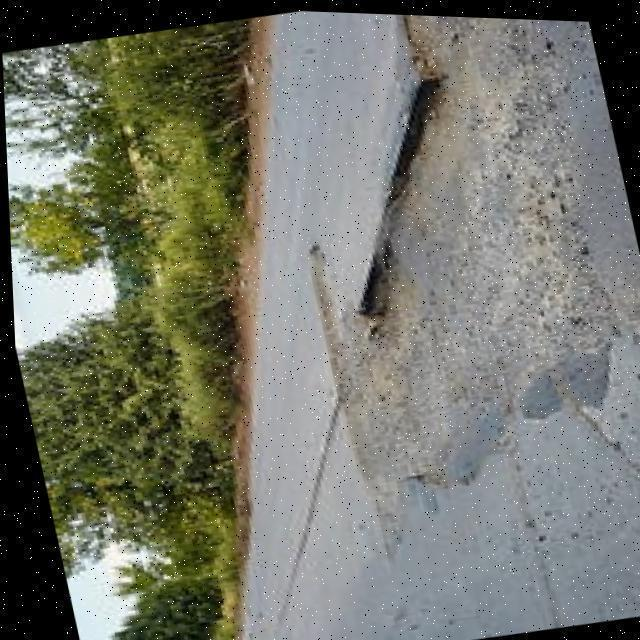Pothole: (305, 14, 624, 560)
